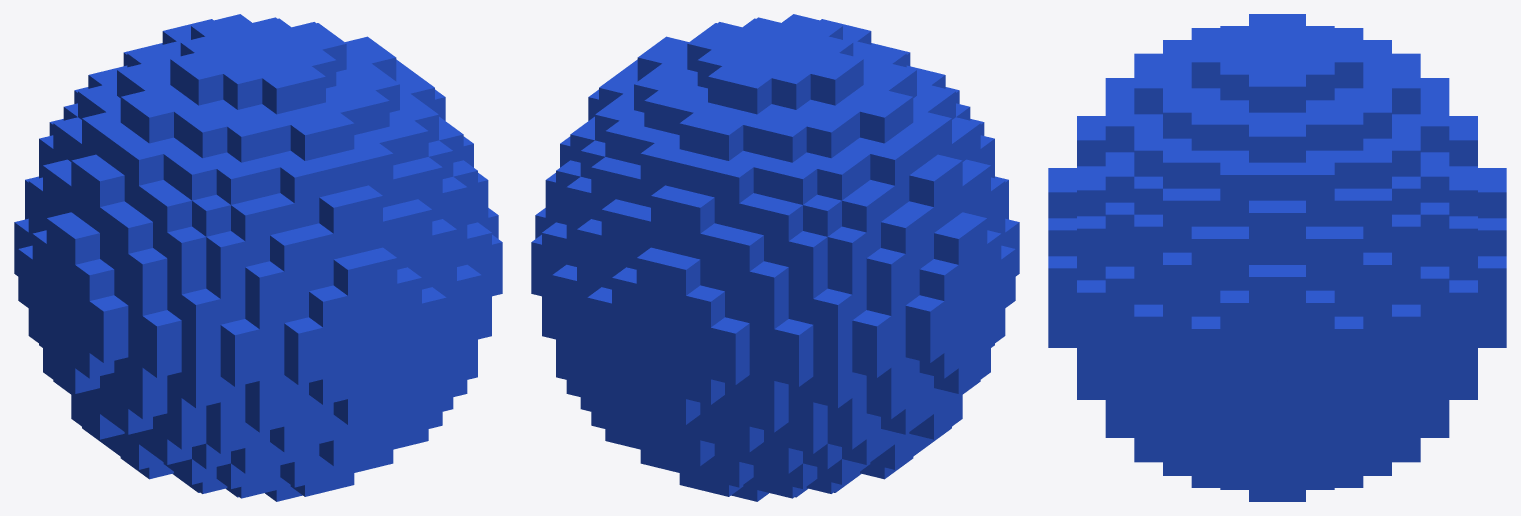
The model's file is Water Planet.fbx.
3 views of the same model, side by side, from view 1: azimuth 30°, elevation 25°; view 2: azimuth 150°, elevation 25°; view 3: azimuth 270°, elevation 25° (orthographic).
Visible parts, largest first — view 1: Planet; view 2: Planet; view 3: Planet.
Boxes of the visible parts, x1,y1,x2,y2 form: Planet: (14, 14, 502, 501); Planet: (531, 14, 1019, 501); Planet: (1048, 14, 1506, 501).
Size of the model in its own units: 3200 by 3200 by 3200.
